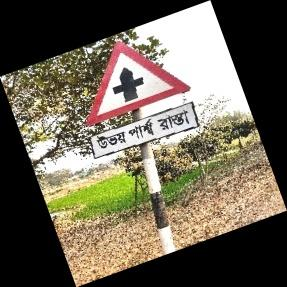Crossroad: (84, 40, 196, 163)
